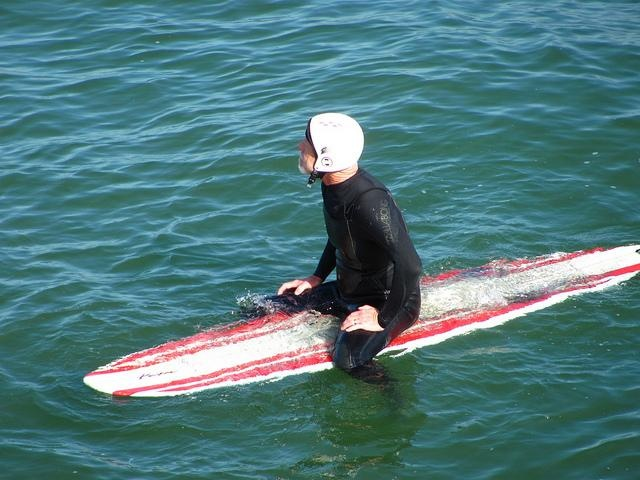person: (234, 107, 422, 389)
